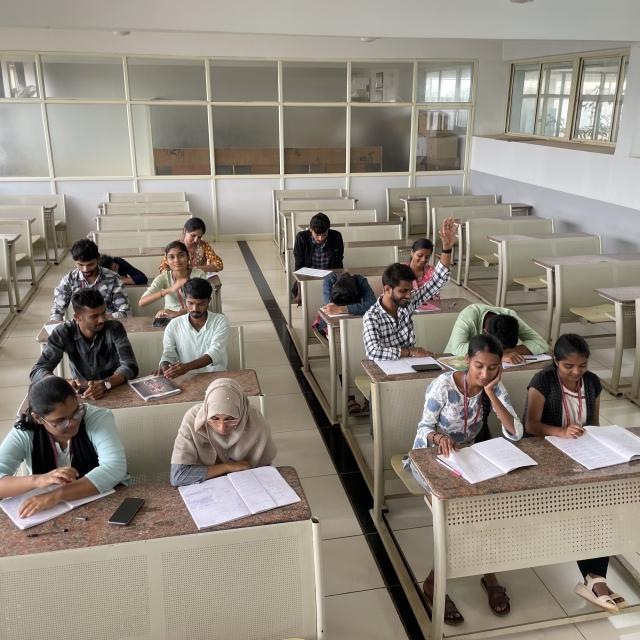Hand Rising: (365, 213, 443, 359)
Reading: (159, 377, 299, 518), (428, 346, 517, 466), (273, 196, 351, 290)
Sleeping: (450, 294, 547, 375), (306, 260, 379, 348), (94, 234, 153, 294)
Using Phone: (47, 285, 135, 405), (146, 238, 201, 337)
Writing: (536, 327, 640, 463)
